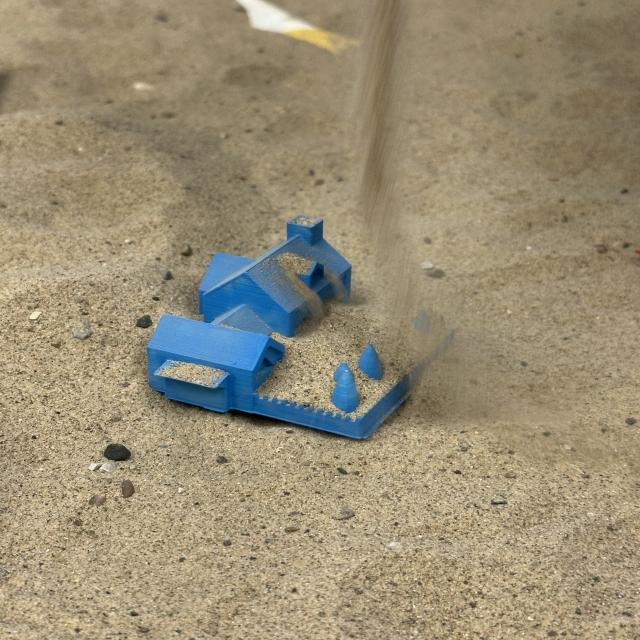house: (135, 212, 455, 439)
